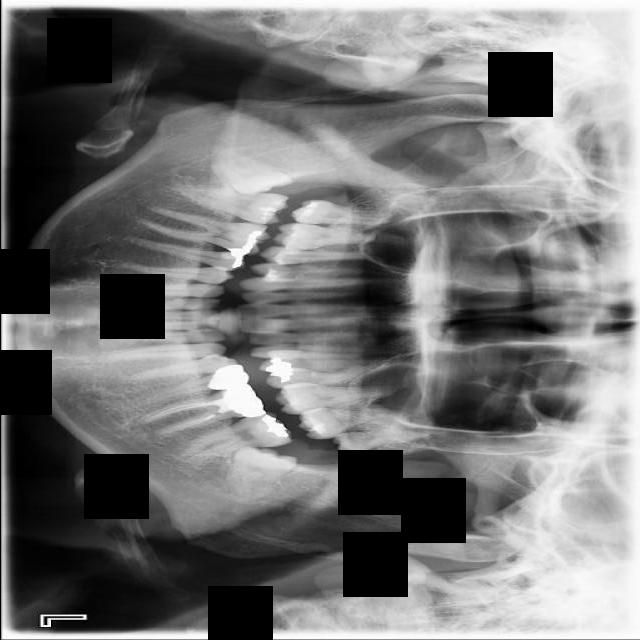52: (237, 407, 293, 454), (215, 216, 272, 259), (218, 378, 266, 426), (239, 186, 289, 230), (298, 408, 353, 439), (202, 361, 251, 395), (289, 199, 339, 225), (264, 366, 318, 389), (258, 349, 308, 372), (212, 251, 245, 271)
73: (140, 385, 247, 440), (60, 582, 68, 593)
BioHorizons Implant: (297, 407, 409, 440)
BioLife Implant: (331, 427, 418, 454)
Biomet 3i Implant: (223, 440, 298, 509)
Blue Sky Bio Implant: (181, 408, 294, 462)
Caries: (290, 198, 392, 226)
Implant: (179, 184, 289, 227)
Keystone Dental Implant: (203, 139, 296, 212)
